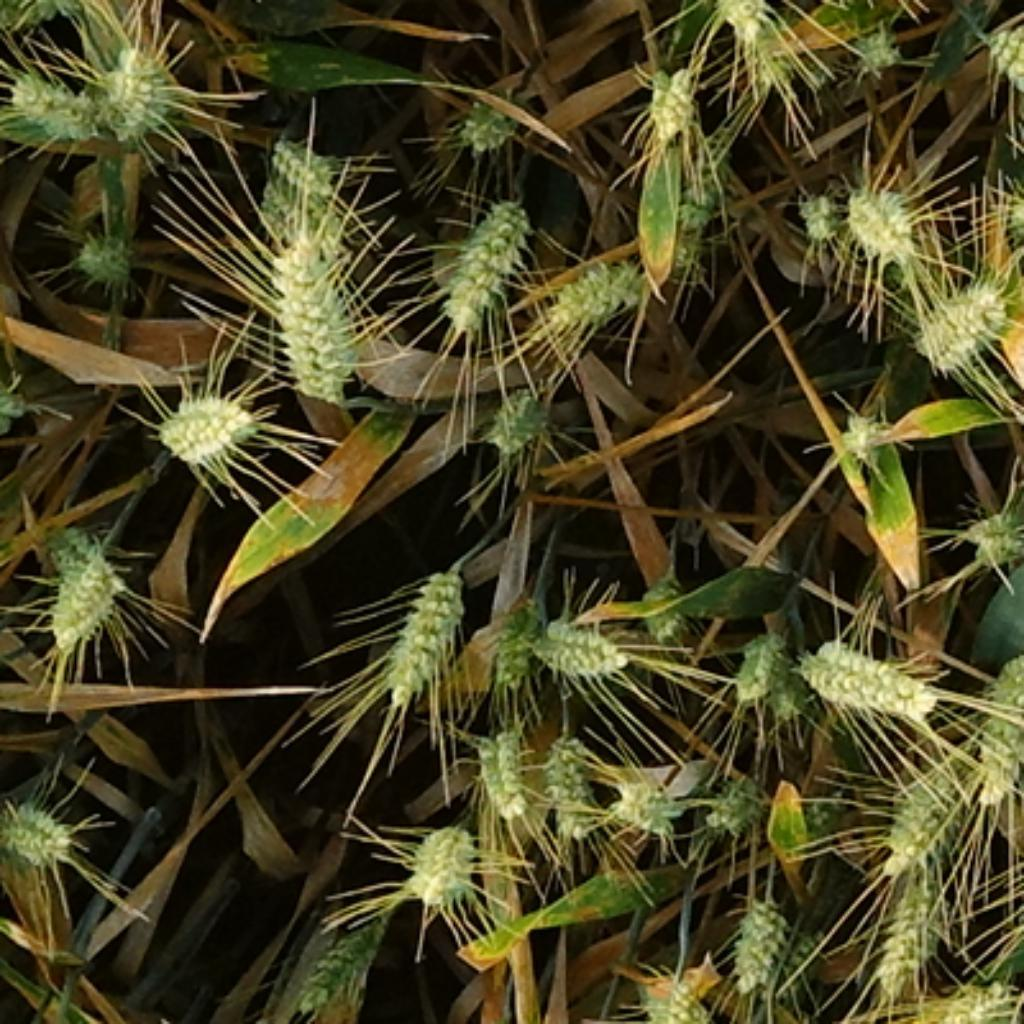0-0: (266, 223, 371, 407), (430, 201, 537, 339), (373, 555, 476, 698), (796, 619, 942, 719), (276, 902, 394, 1024), (875, 747, 985, 875), (144, 377, 275, 474), (43, 514, 158, 616), (74, 33, 184, 135), (906, 263, 1013, 366), (867, 860, 954, 980), (540, 240, 652, 327), (966, 661, 1024, 820), (7, 56, 115, 138), (519, 599, 629, 675), (253, 125, 340, 220), (41, 565, 139, 649), (399, 811, 483, 906), (727, 883, 803, 988), (842, 175, 926, 263), (673, 138, 737, 250), (468, 714, 535, 816), (535, 721, 596, 829), (727, 616, 798, 706), (629, 952, 721, 1021), (972, 10, 1024, 130), (637, 51, 704, 140), (481, 373, 555, 453), (3, 795, 80, 870), (609, 757, 683, 832), (486, 591, 547, 680), (450, 79, 524, 148), (704, 762, 773, 832), (960, 488, 1024, 560), (629, 560, 691, 634), (69, 217, 140, 279), (832, 396, 898, 460), (844, 15, 901, 69), (698, 0, 778, 36), (796, 179, 844, 238), (775, 665, 819, 729), (747, 33, 793, 94)
